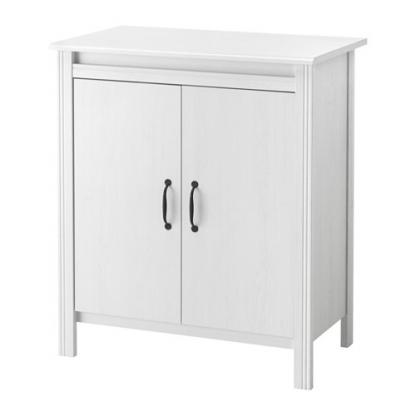Cabinet: (44, 18, 370, 394)
